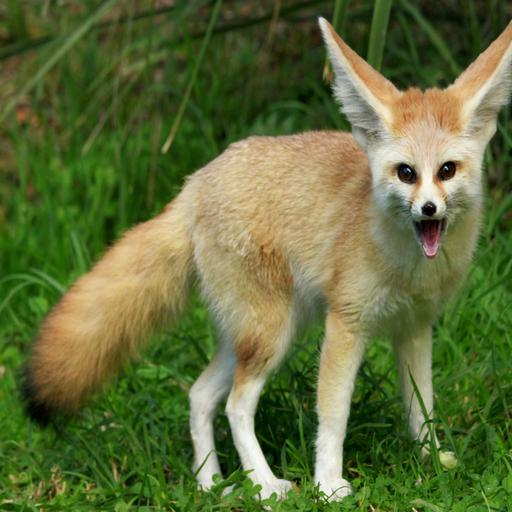Fox: (20, 0, 512, 502)
